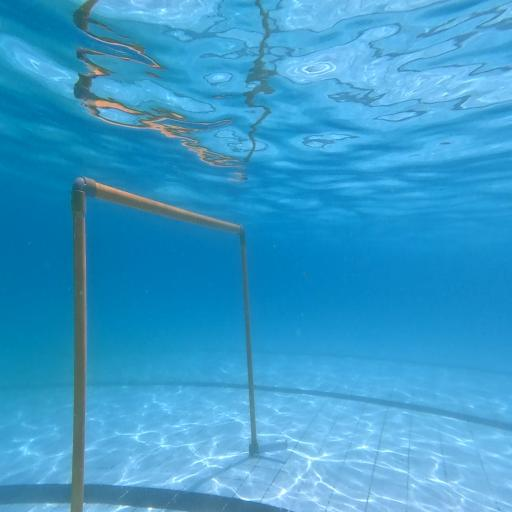gate: (71, 174, 288, 512)
